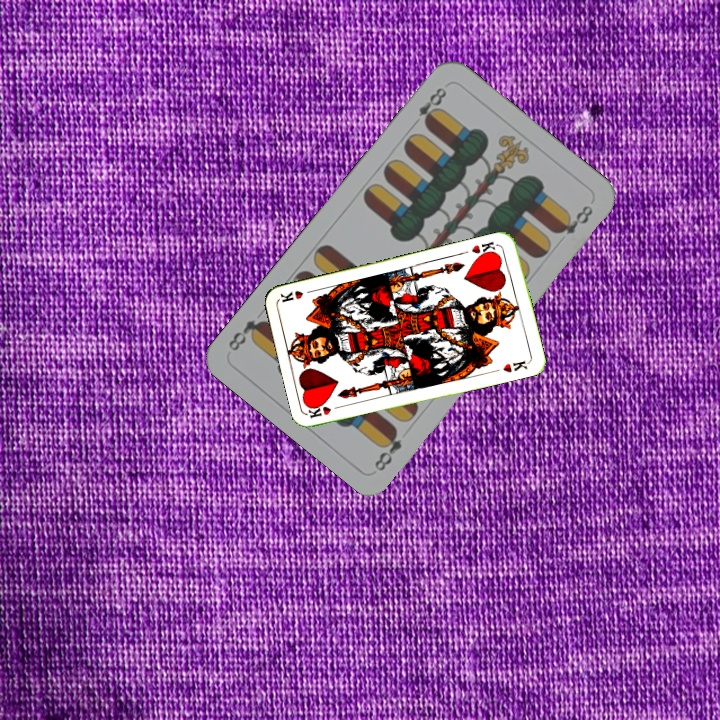E8: (407, 83, 450, 130), (370, 423, 405, 474)
HK: (305, 401, 346, 420), (467, 238, 499, 260)
